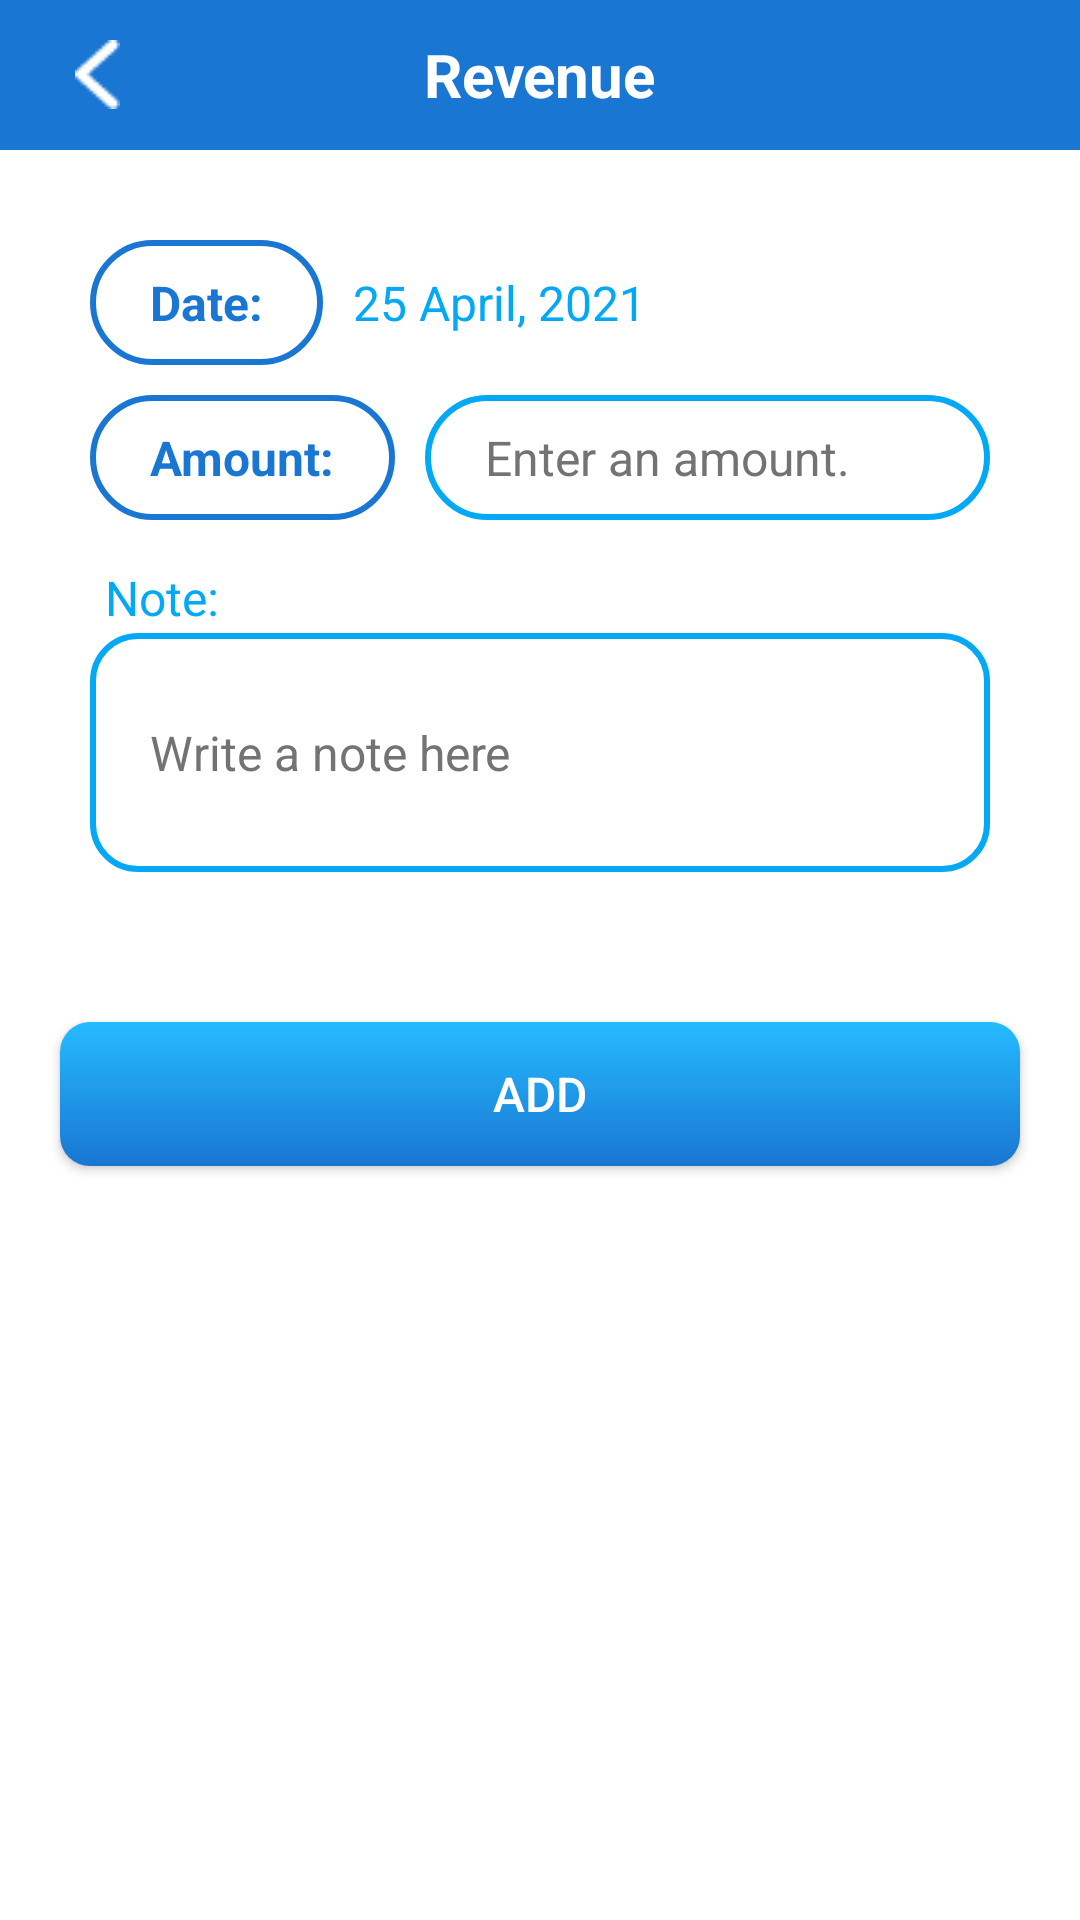

Screen size 1080 x 1920. Icon name, then its box in pixels as (x1, y1, x2, y2):
arrow back: (75, 40, 120, 109)
